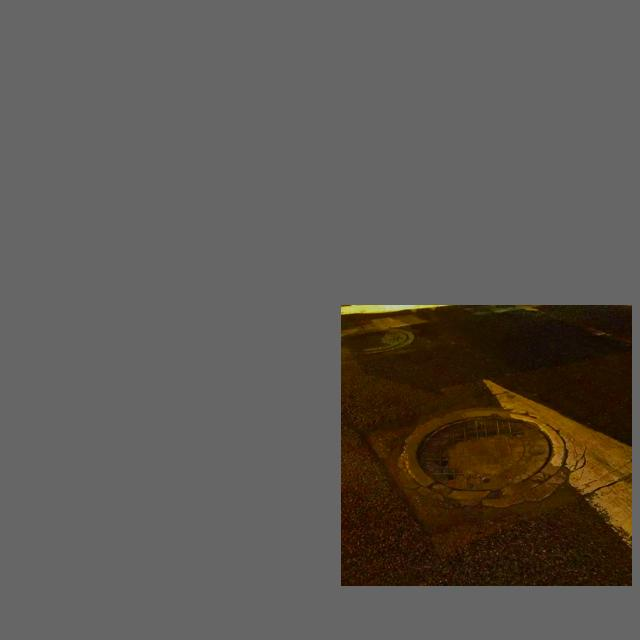circle: (368, 397, 611, 533)
